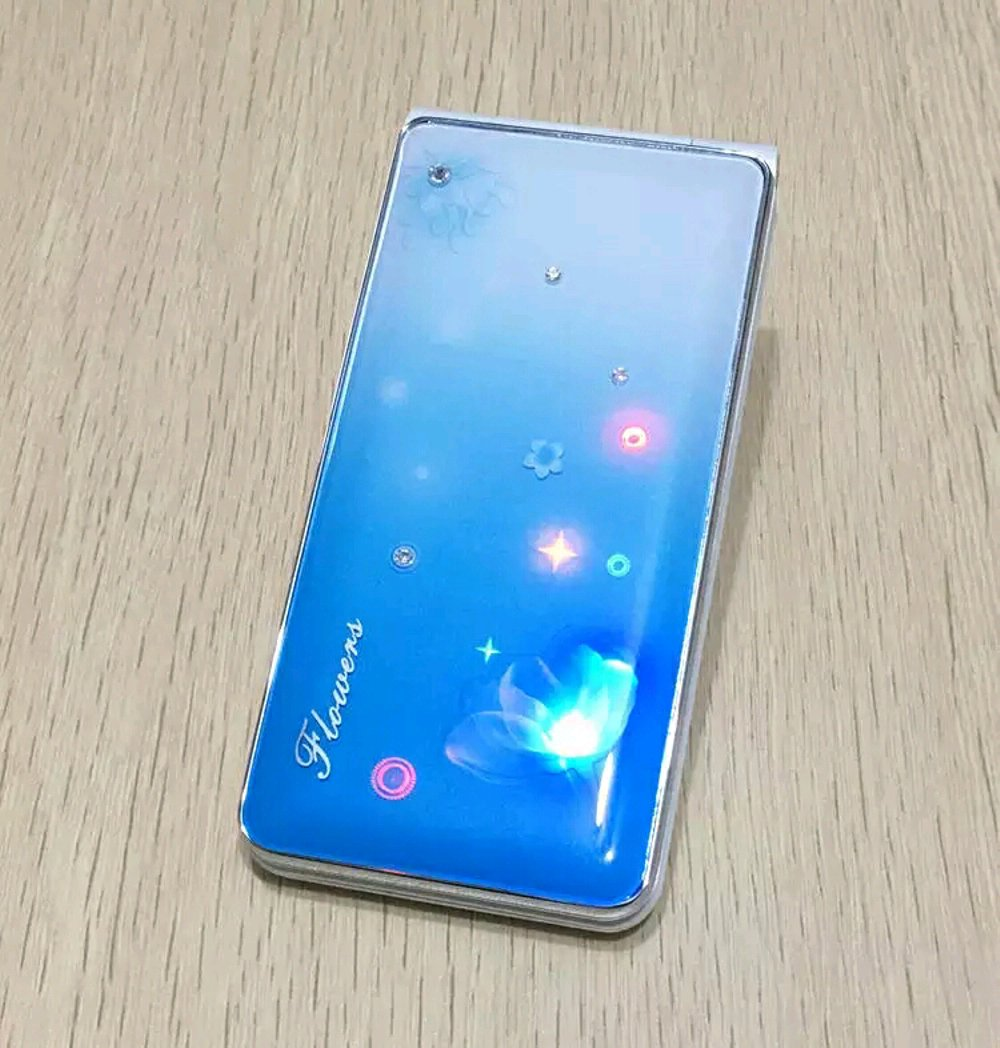Handphone: (224, 87, 799, 953)
